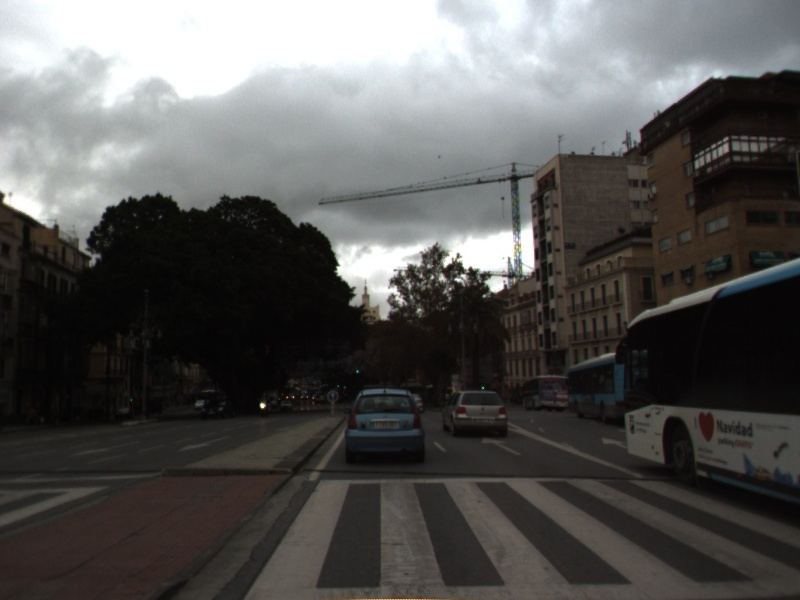STRAIGHT: (479, 435, 524, 458), (594, 432, 630, 452)
